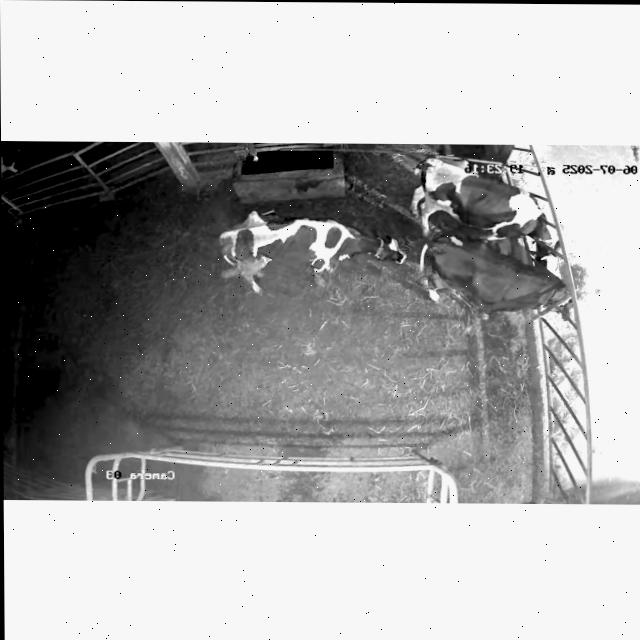stand: (219, 210, 408, 293)
